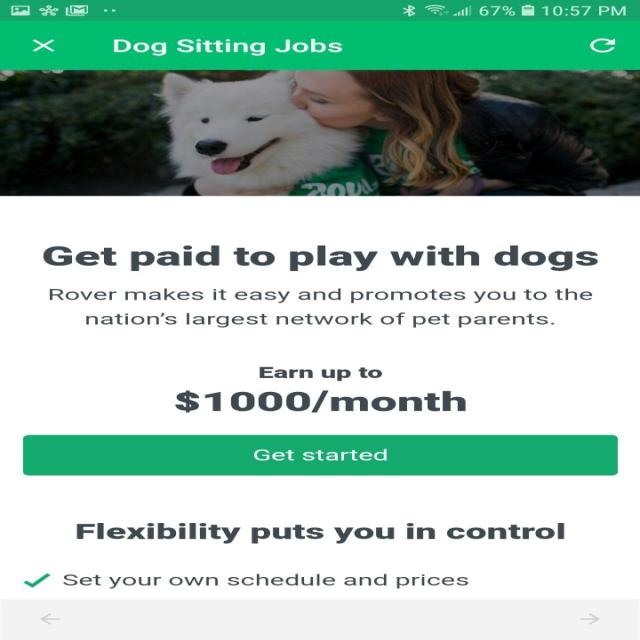Icon: (23, 573, 52, 588), (588, 38, 616, 53), (32, 39, 54, 52), (40, 612, 60, 624), (580, 612, 600, 624)
Image: (0, 70, 639, 196)
Text: (49, 288, 592, 327), (44, 245, 598, 271), (76, 522, 564, 544), (174, 390, 466, 413), (63, 573, 469, 588), (112, 38, 342, 56), (258, 366, 382, 381)
TextButton: (23, 434, 618, 476)
